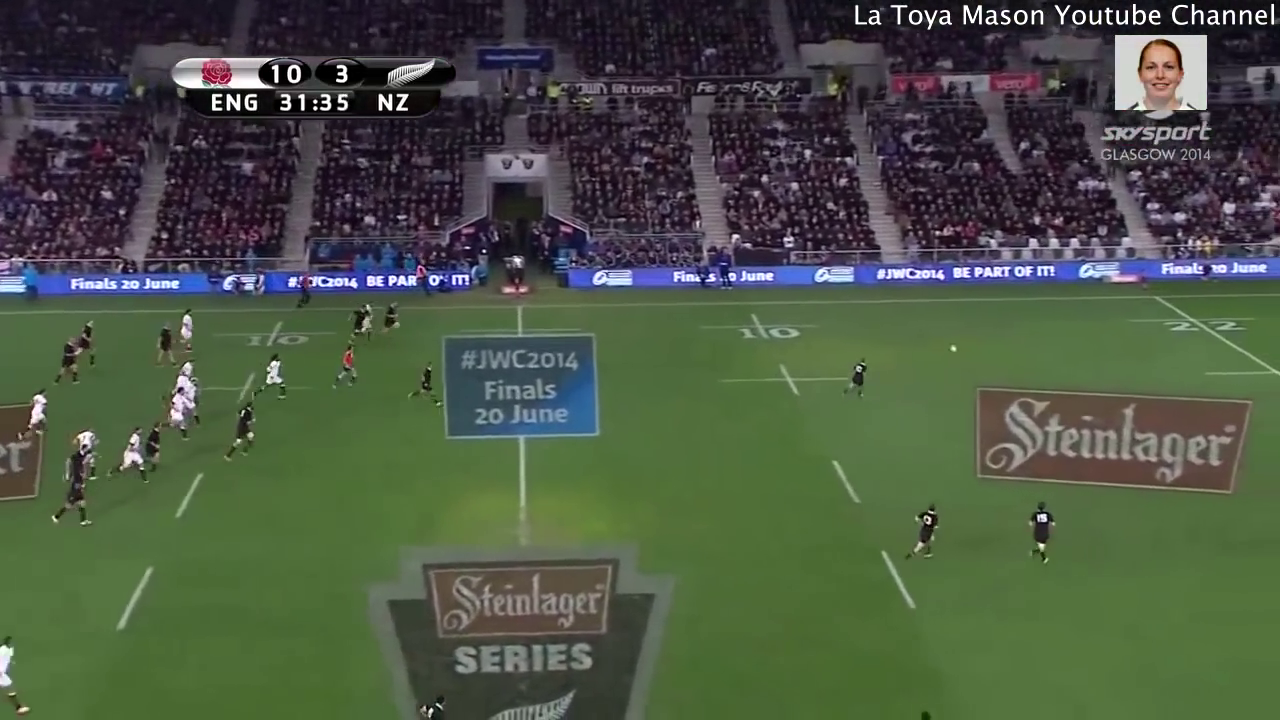10_metre: (717, 359, 858, 401), (695, 312, 828, 346)
ball: (948, 341, 960, 358)
player: (46, 439, 92, 532), (104, 420, 156, 493), (902, 496, 946, 568), (1, 629, 34, 720), (220, 398, 261, 468), (62, 310, 105, 374), (404, 359, 452, 415), (1024, 495, 1057, 571), (157, 381, 194, 447), (249, 350, 292, 403), (69, 425, 108, 479), (328, 342, 368, 392), (21, 377, 52, 440), (52, 331, 85, 386), (404, 688, 458, 720), (841, 350, 873, 400), (151, 319, 181, 369), (372, 299, 406, 343), (177, 303, 202, 362), (143, 413, 164, 474), (166, 351, 194, 396), (182, 374, 205, 426), (344, 298, 368, 339), (360, 297, 378, 342)
